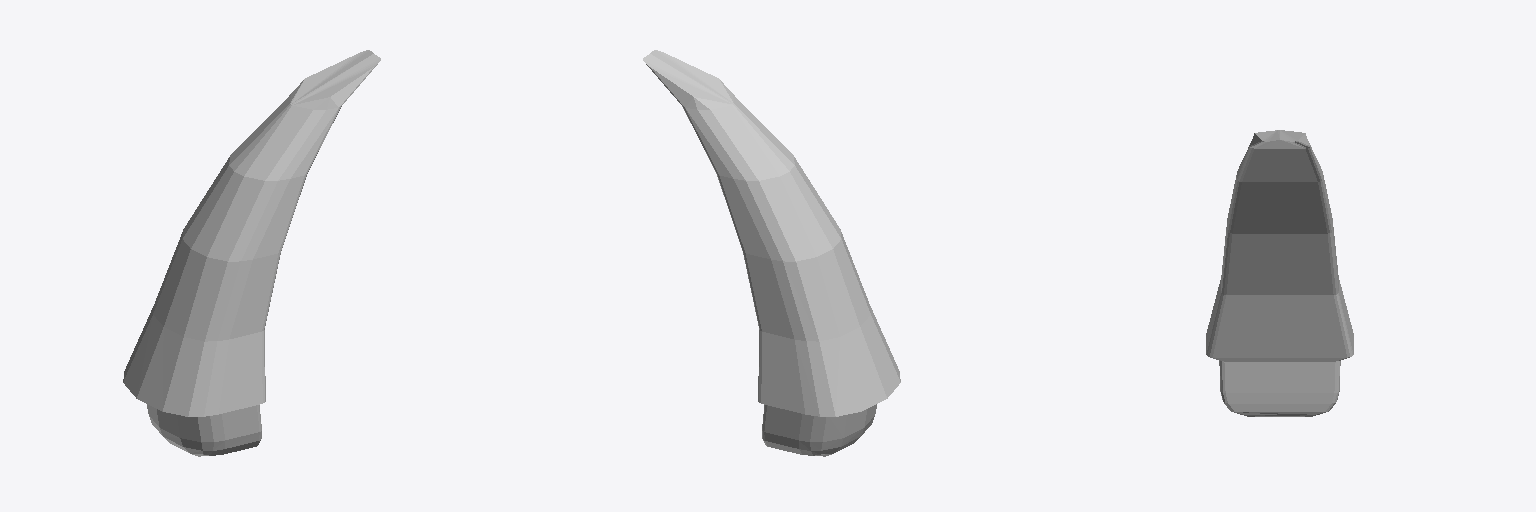
The model's file is character_jackArmRight.obj.
3 views of the same model, side by side, from view 1: azimuth 30°, elevation 25°; view 2: azimuth 150°, elevation 25°; view 3: azimuth 270°, elevation 25° (orthographic).
Parts seen in each view (by area): view 1: character_jackArmRight_Cube.030; view 2: character_jackArmRight_Cube.030; view 3: character_jackArmRight_Cube.030.
Part boxes in pixels (bbox=[...]): character_jackArmRight_Cube.030: bbox=[123, 50, 380, 456]; character_jackArmRight_Cube.030: bbox=[643, 50, 900, 456]; character_jackArmRight_Cube.030: bbox=[1206, 130, 1353, 416].
Size of the model in its own units: 0.411 by 0.5708 by 0.2193.